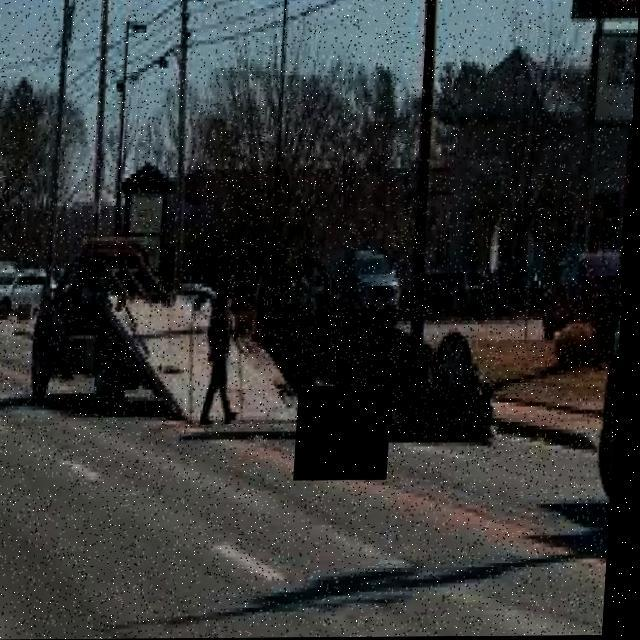multiple_accident: (5, 159, 620, 509)
